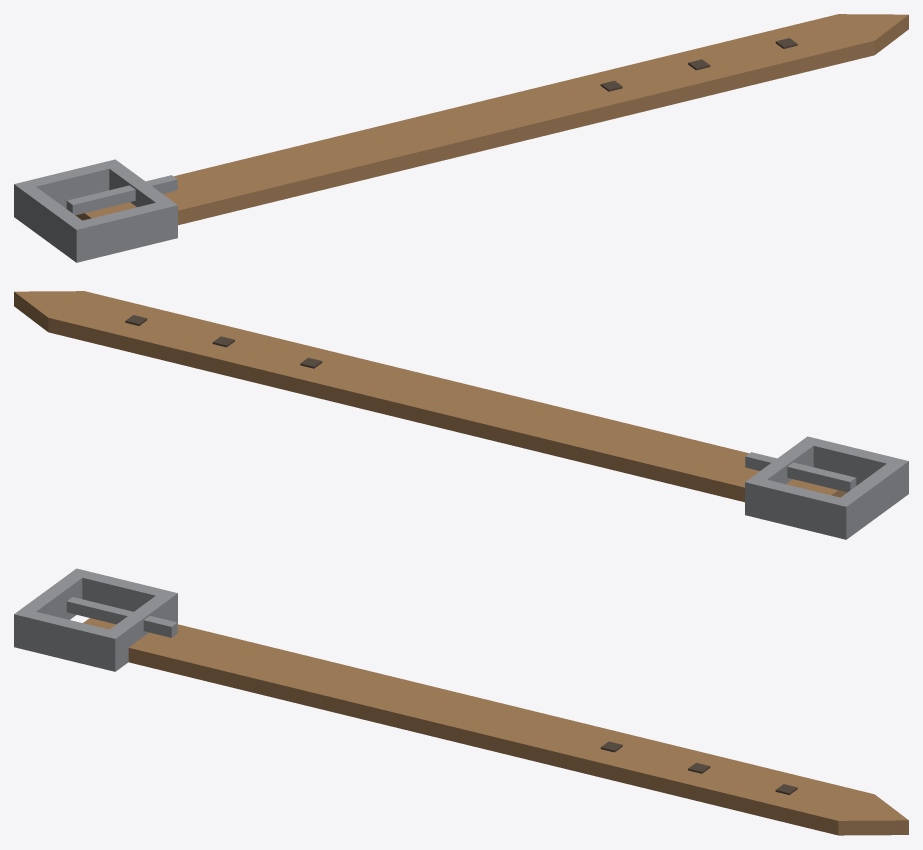
Rendered from prop-spur-leather.fbx.
3 renders of one model, top to bottom at view 1: azimuth 30°, elevation 25°; view 2: azimuth 150°, elevation 25°; view 3: azimuth 330°, elevation 25°, orthographic.
Visible parts, largest first — view 1: prop-spur-leather; view 2: prop-spur-leather; view 3: prop-spur-leather.
Boxes of the visible parts, <box> form: prop-spur-leather: <box>14,14,908,262</box>; prop-spur-leather: <box>14,291,908,539</box>; prop-spur-leather: <box>14,568,908,835</box>.
Bounding box in the file's own units: 24.7 × 0.9 × 3.1.
